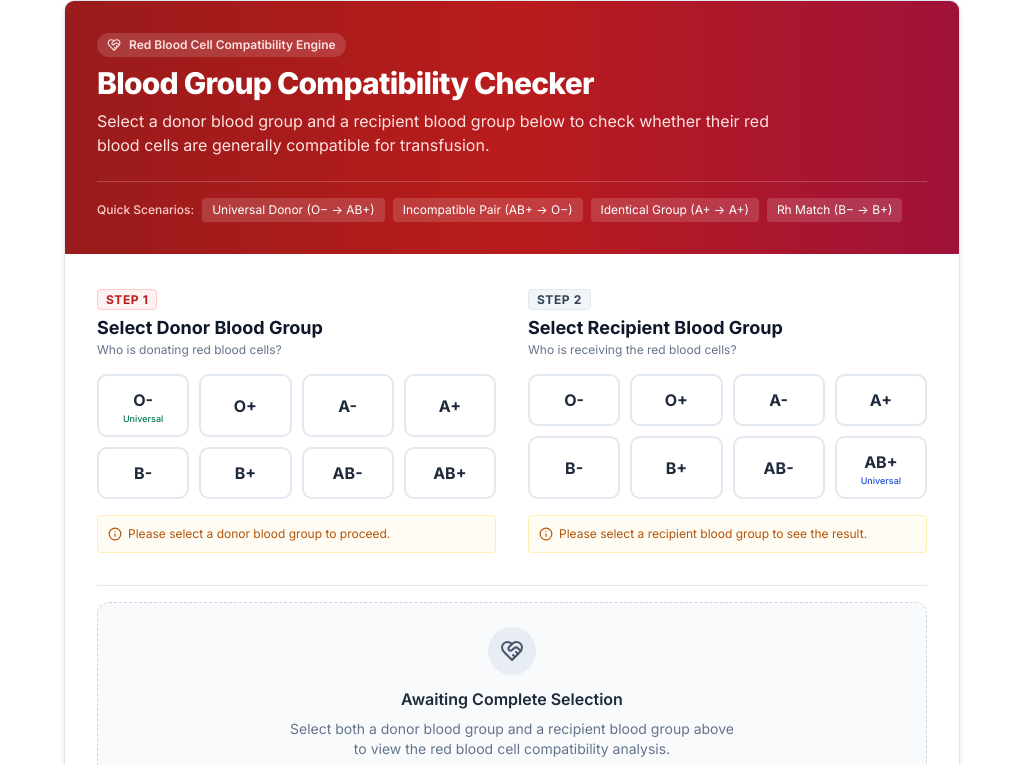
Test: CompatibilityChecker Component › calculates incompatible pair correctly (AB+ donor to O- recipient)
Click the radio button labelled "AB+" at (450, 473), box [404,447,496,499]
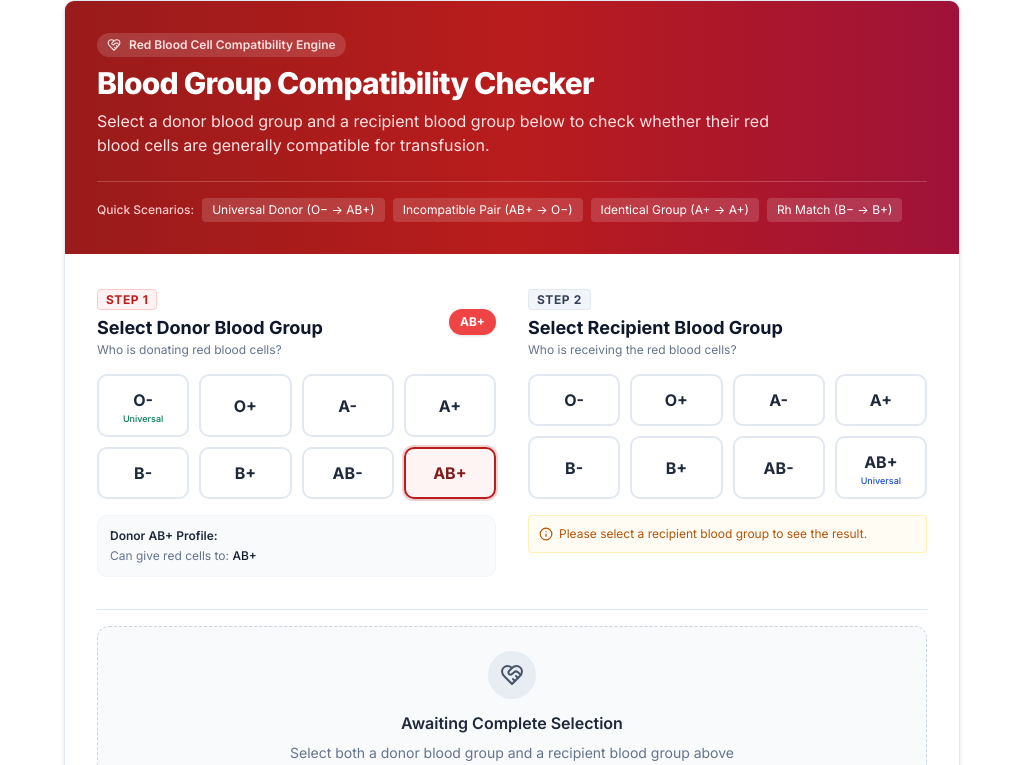
Click the radio button labelled "O-" at (574, 400), box [528,374,620,426]
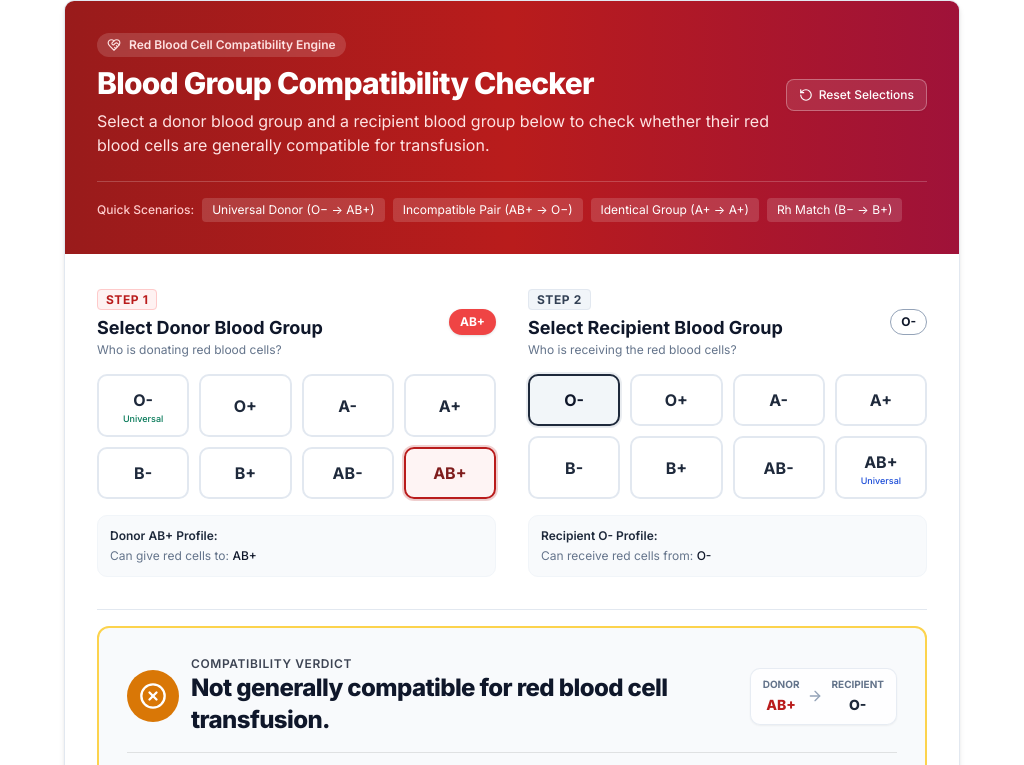
Expected: the heading "Not generally compatible for red blood cell transfusion." is shown, [191,672,734,736]
